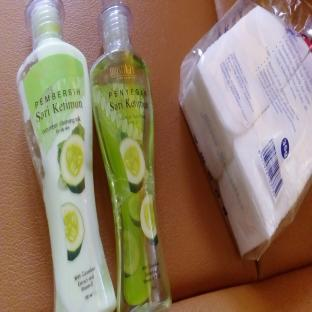Cucumber: (60, 135, 84, 193), (120, 138, 145, 193), (62, 203, 84, 260), (141, 195, 158, 245), (124, 231, 140, 277), (128, 193, 140, 227)
